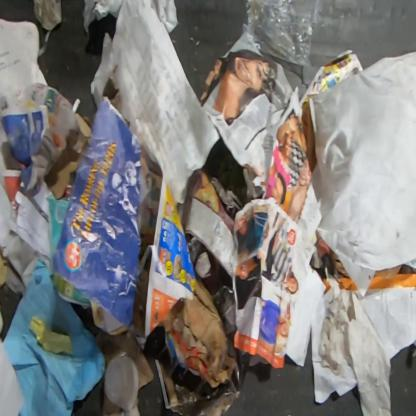cardboard: (156, 277, 239, 390), (45, 111, 94, 199), (95, 329, 154, 389)
rigid_plastic: (104, 351, 139, 411)
soft_plastic: (240, 0, 324, 67)
